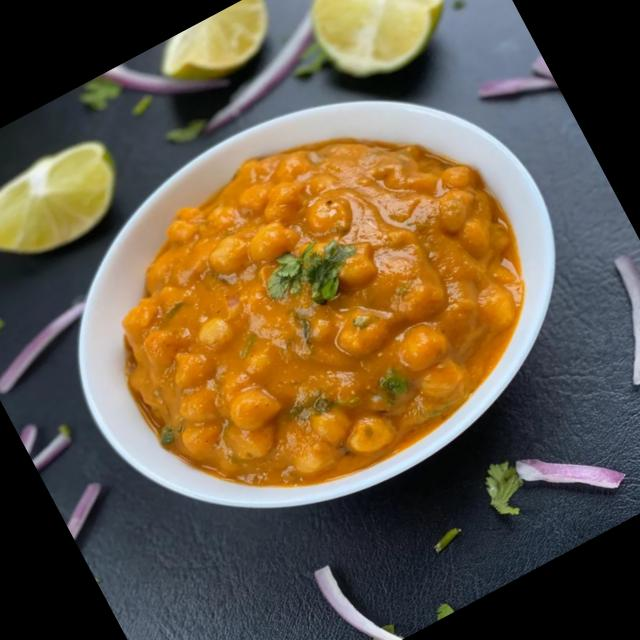Chole: (59, 62, 584, 552)
